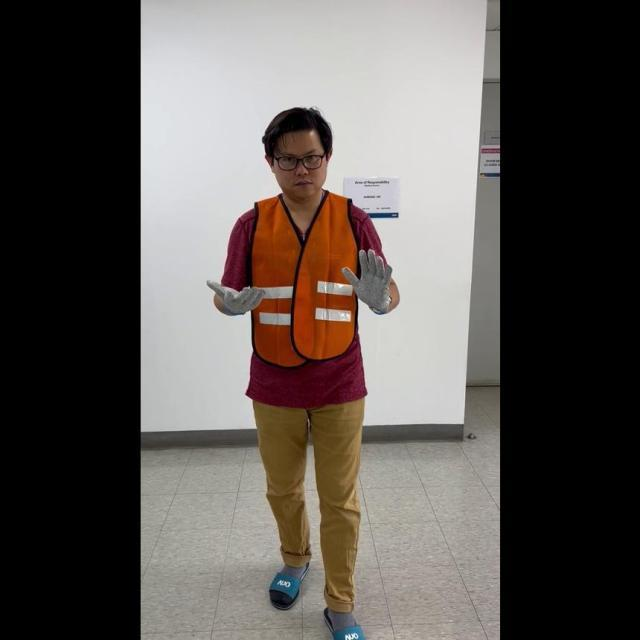gloved_hand: (340, 243, 395, 313), (205, 273, 267, 319)
